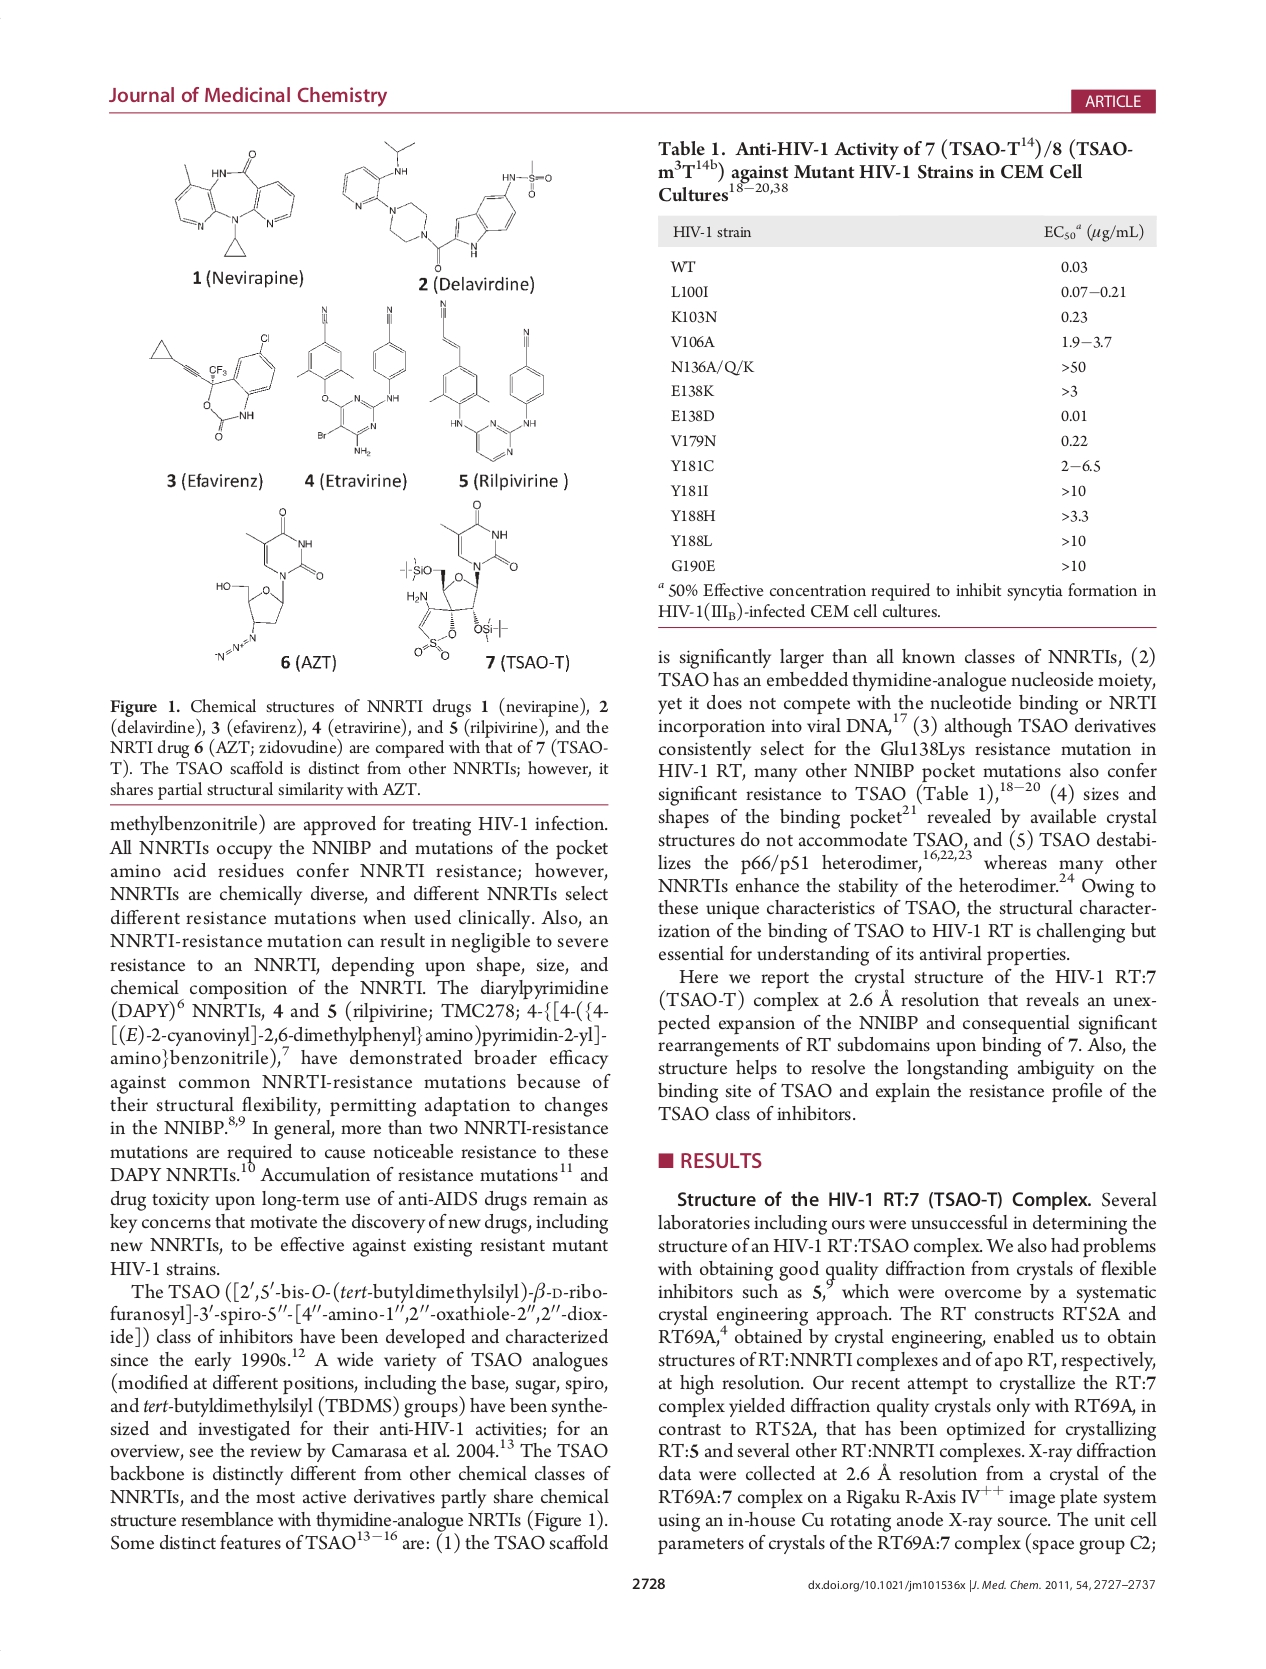exist_molecular: (336, 137, 555, 274), (396, 496, 520, 664), (427, 294, 547, 465), (207, 504, 327, 664), (293, 303, 410, 459), (169, 146, 298, 262), (145, 330, 277, 443)
